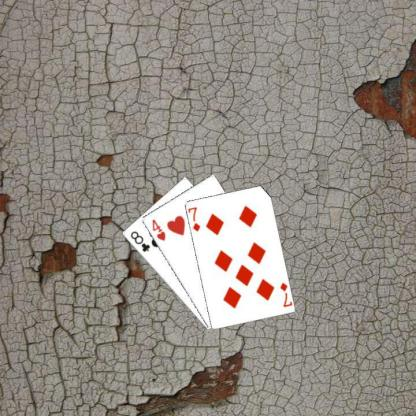4H: (149, 217, 166, 242)
7D: (186, 204, 201, 233), (277, 280, 292, 308)
8C: (127, 228, 150, 253)
